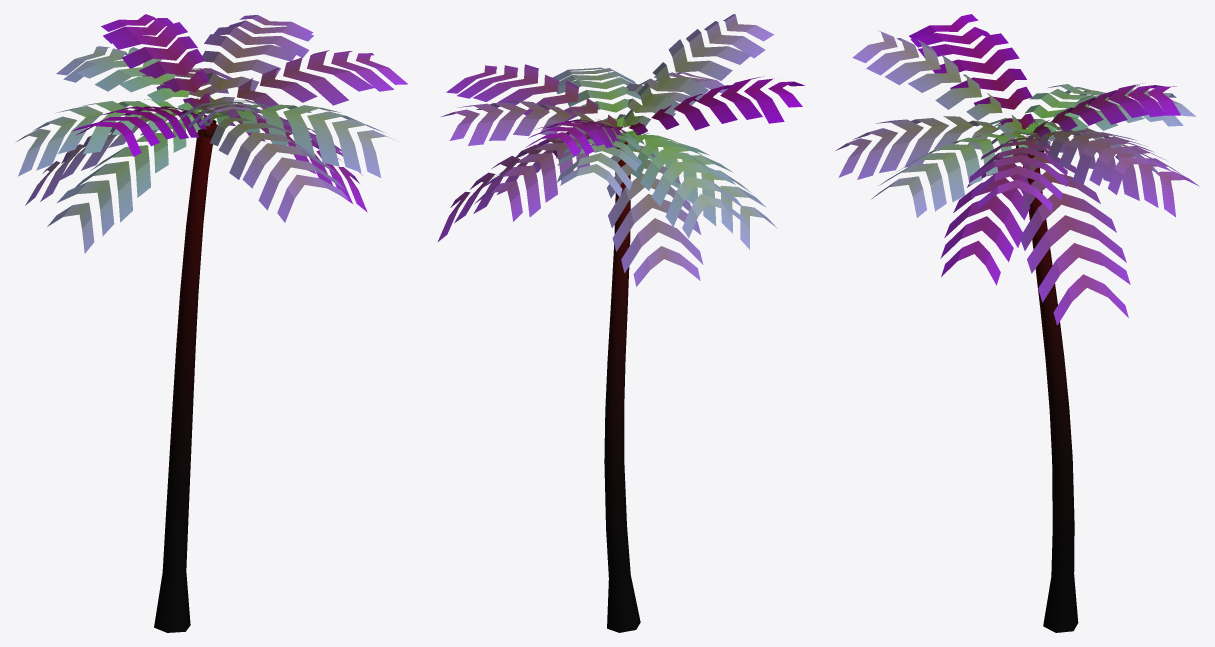
Rendered from Palm2_LOD1.fbx.
The picture shows the model from 3 angles, left to right: view 1: azimuth 30°, elevation 25°; view 2: azimuth 150°, elevation 25°; view 3: azimuth 270°, elevation 25°; orthographic projection. The views are drawn at different scales.
Parts seen in each view (by area): view 1: Palm2_Lite; view 2: Palm2_Lite; view 3: Palm2_Lite.
Part boxes in pixels (x1,y1,x2,y2): Palm2_Lite: (15,14,407,632); Palm2_Lite: (437,14,804,632); Palm2_Lite: (835,14,1199,632).
Size of the model in its own units: 9.04 by 14.89 by 8.65.
